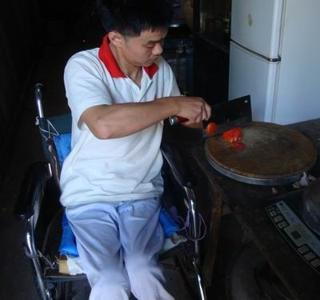person: (58, 2, 212, 300)
